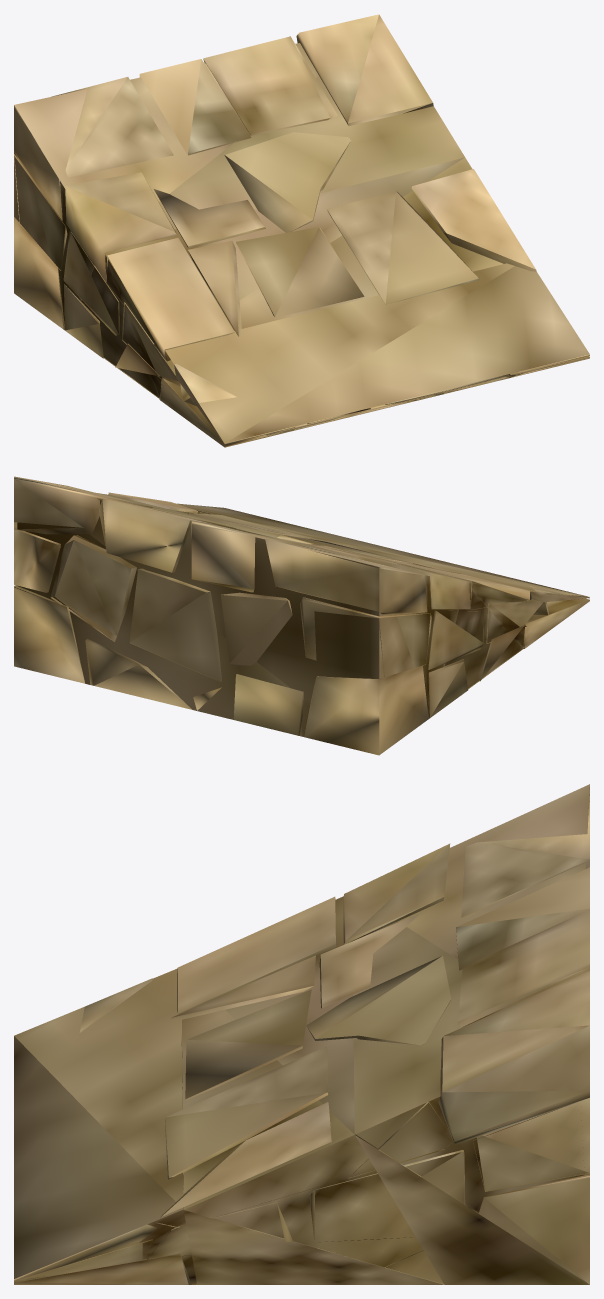
Rendered from ramp.lod2.glb.
3 views of the same model, one above another, from view 1: azimuth 30°, elevation 25°; view 2: azimuth 150°, elevation 25°; view 3: azimuth 270°, elevation 25° (orthographic). The views are drawn at different scales.
Bounding box in the file's own units: 2 × 1 × 2.
Materials: 1 (1 with a texture image).
